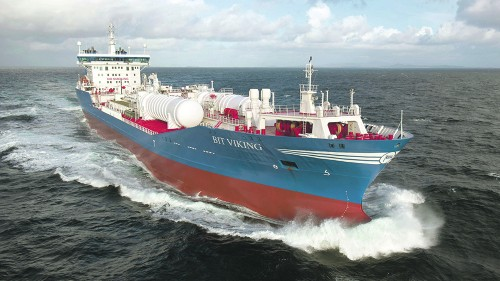Cargoship: (71, 21, 415, 230)
